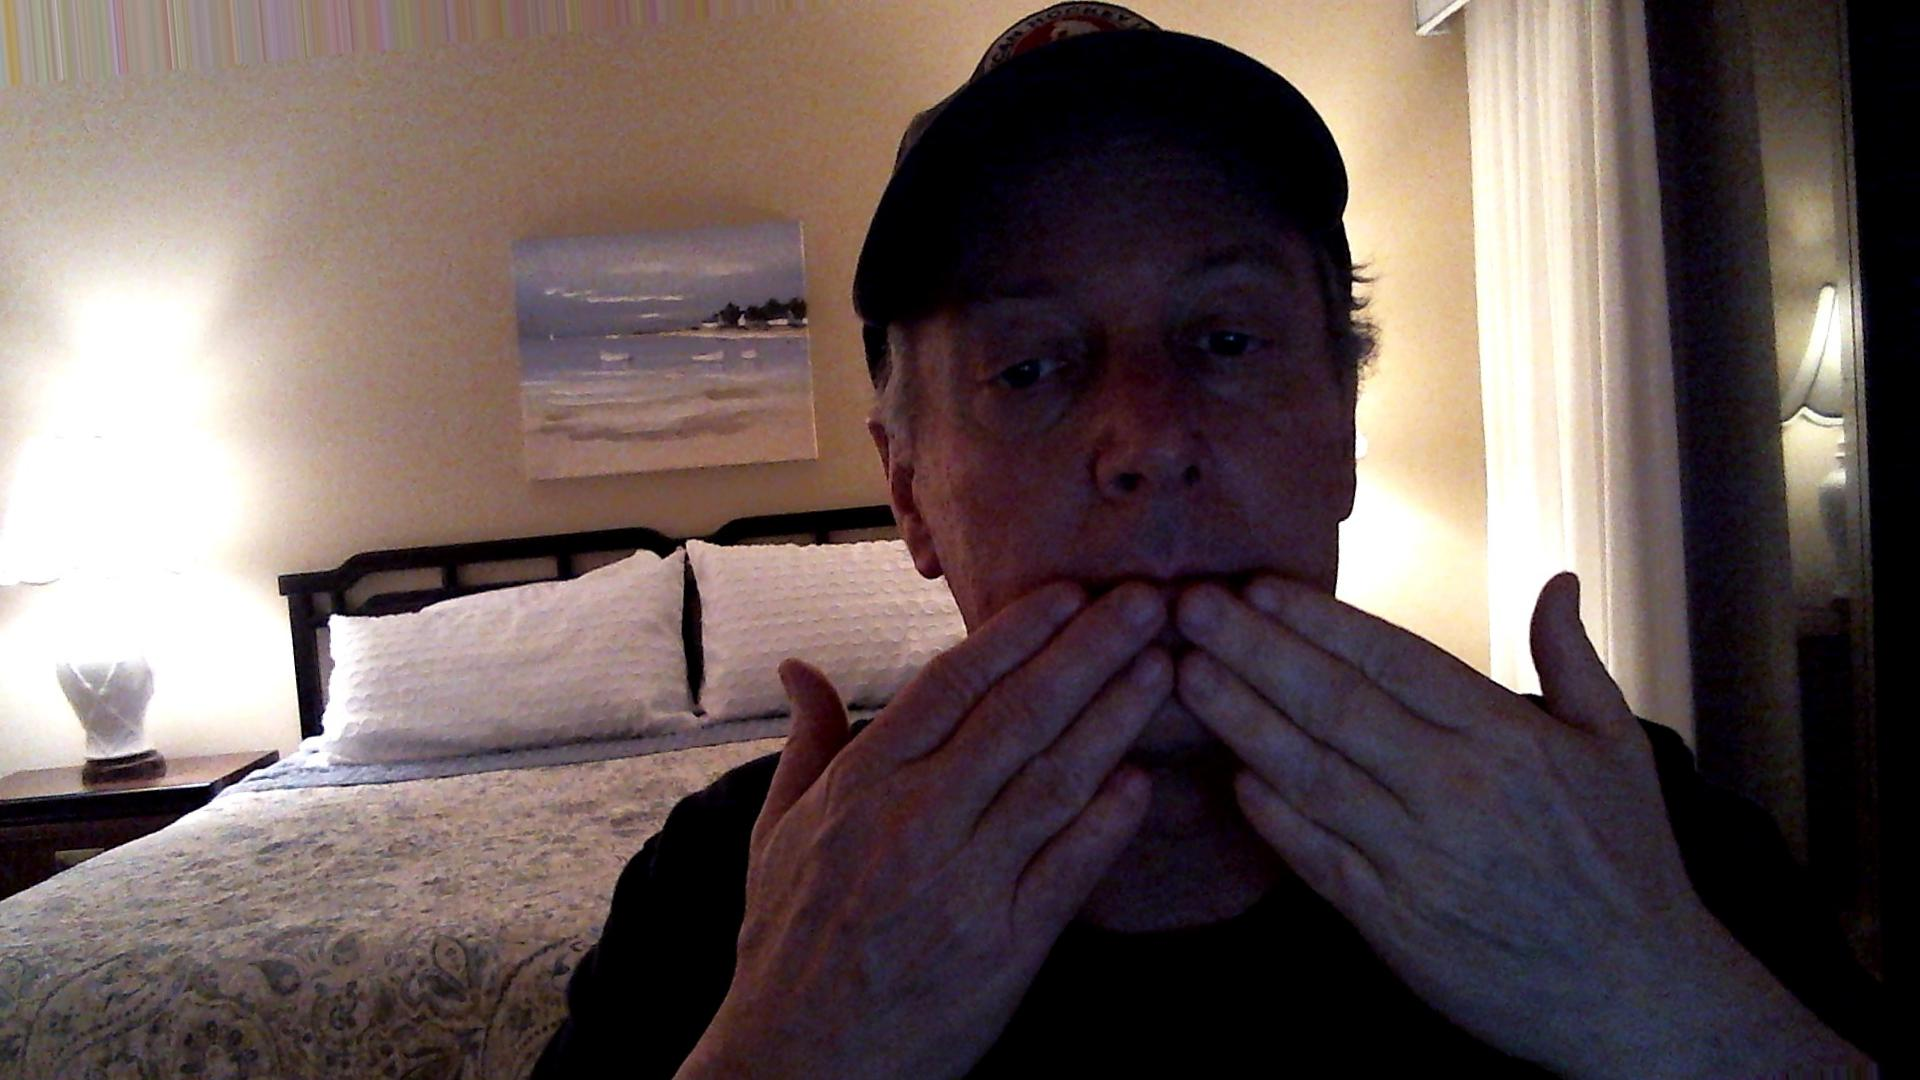Thank You: (699, 558, 1751, 998)
